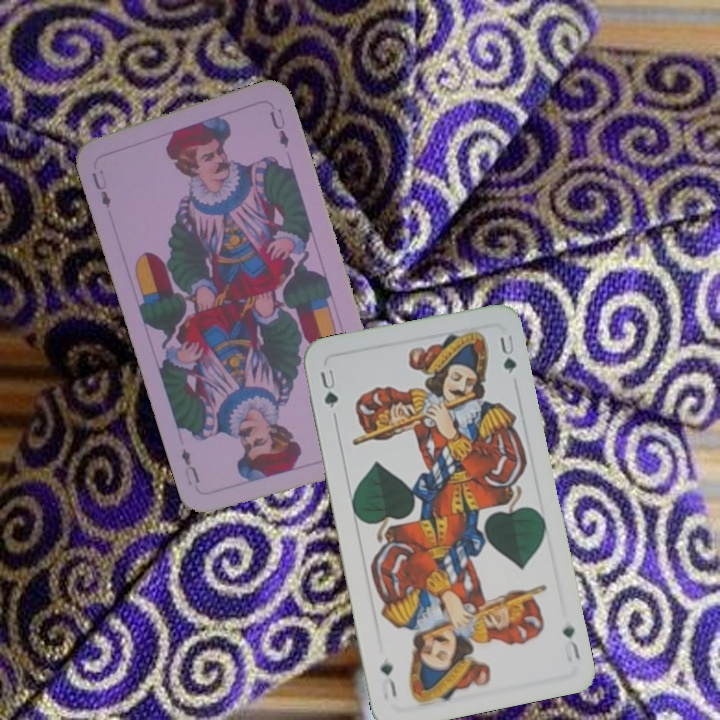EU: (87, 168, 114, 211)
GU: (316, 365, 341, 411), (558, 620, 583, 664)
